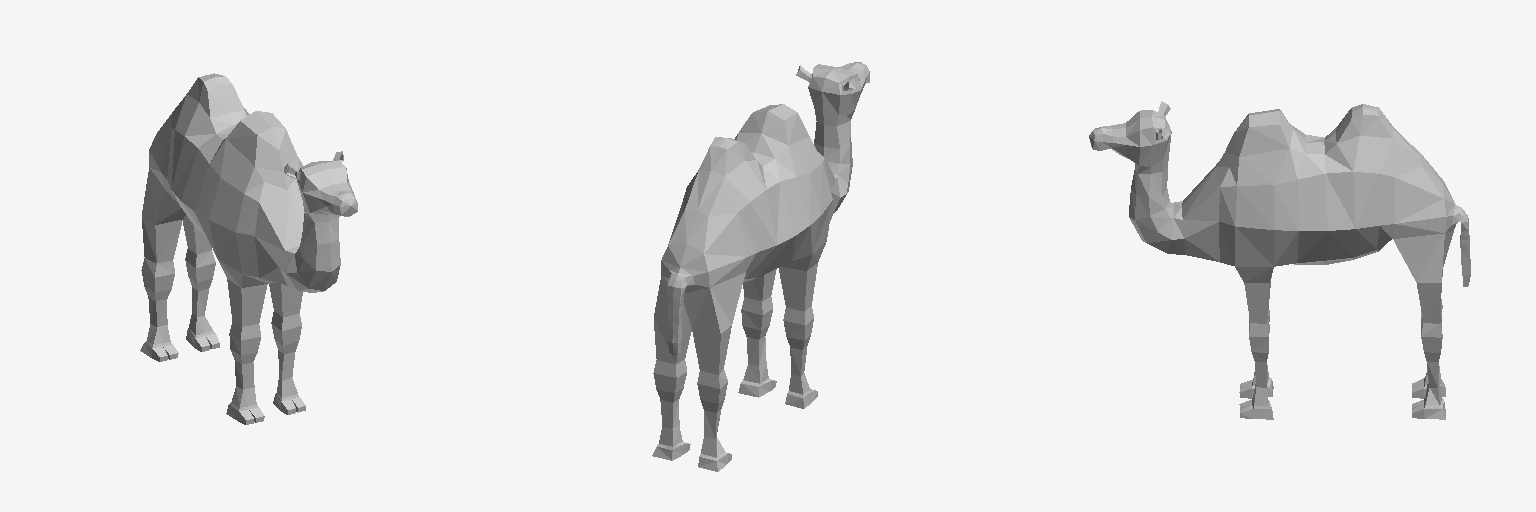
The model's file is camel.obj.
The picture shows the model from 3 angles: view 1: azimuth 30°, elevation 25°; view 2: azimuth 150°, elevation 25°; view 3: azimuth 270°, elevation 25°; orthographic projection.
Parts seen in each view (by area): view 1: Sphere; view 2: Sphere; view 3: Sphere.
Part boxes in pixels (left/top/right/bottom): Sphere: left=140, top=73, right=357, bottom=424; Sphere: left=652, top=62, right=869, bottom=471; Sphere: left=1089, top=101, right=1470, bottom=419.
Size of the model in its own units: 3 by 8.16 by 9.54.